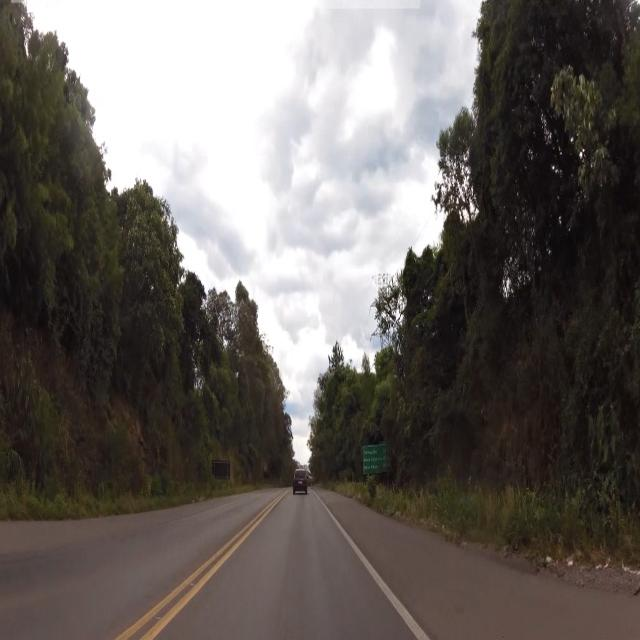I-4: (363, 446, 392, 473)
